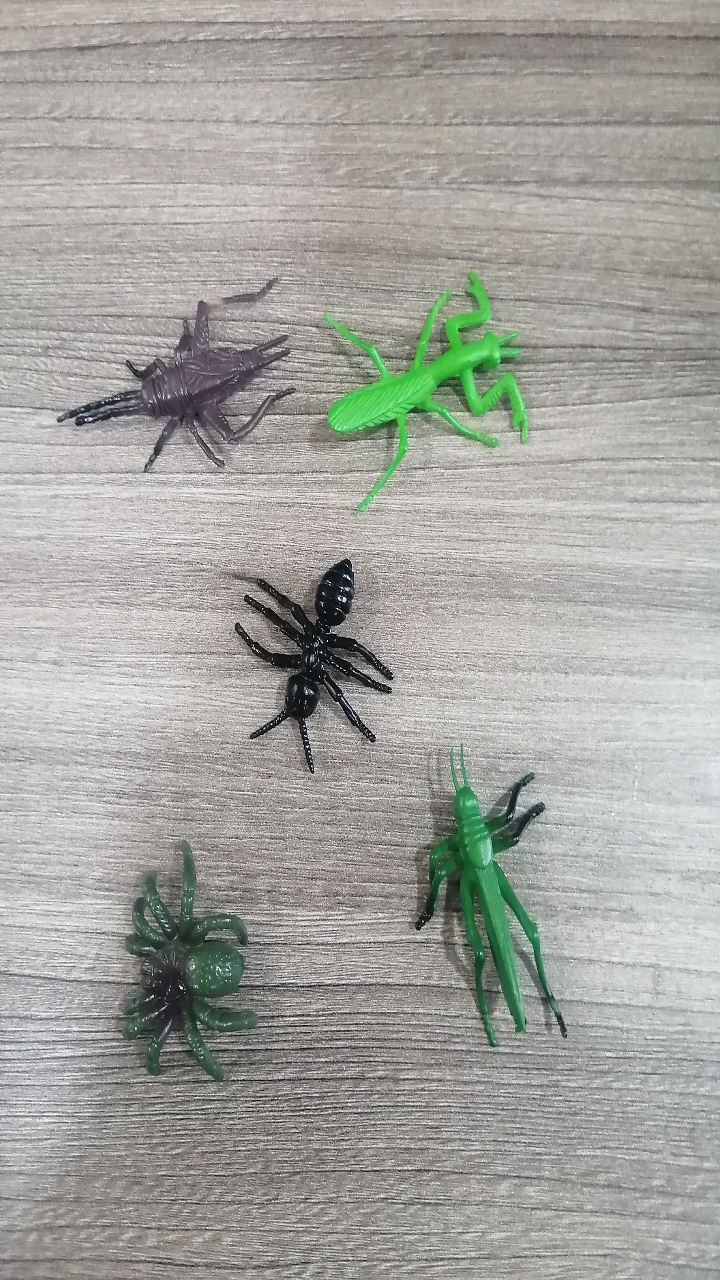intruso: (357, 735, 617, 1068), (284, 232, 554, 534), (55, 815, 291, 1114), (181, 523, 417, 777), (41, 251, 269, 508)
